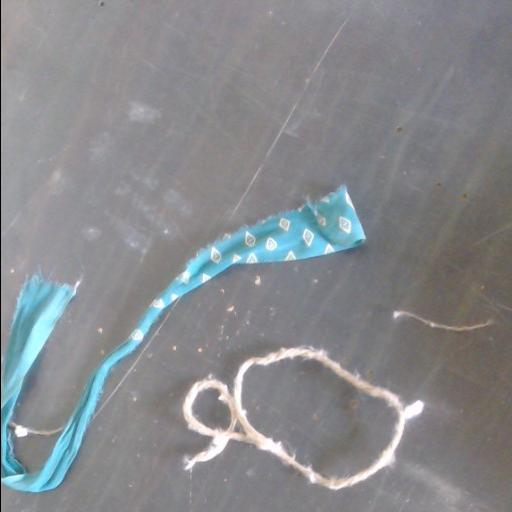cloth: (1, 186, 364, 492)
conveyor belt: (1, 0, 512, 511), (242, 358, 395, 478), (192, 391, 226, 430)
jute: (182, 346, 423, 489), (392, 310, 492, 330)
